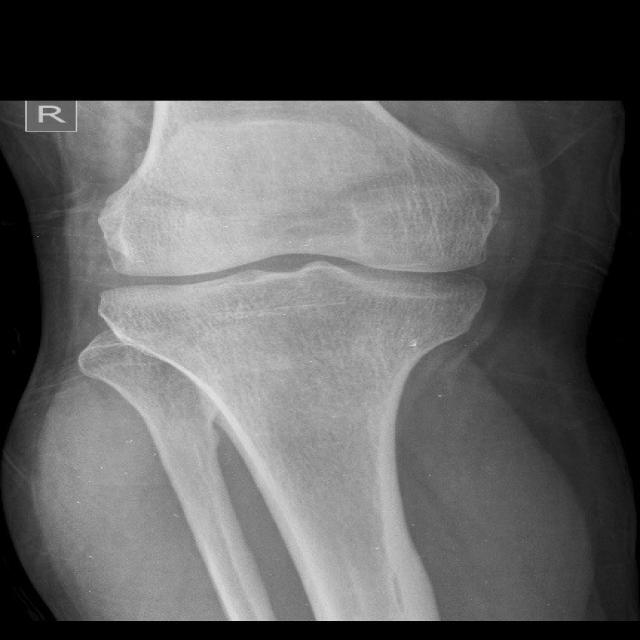normal: (81, 184, 507, 334)
